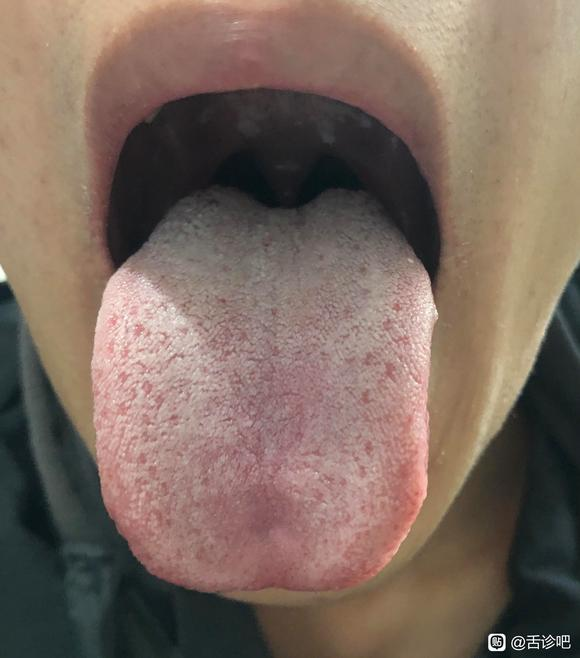baitaishe: (90, 184, 438, 594)
hongdianshe: (390, 300, 402, 312)
shenquao: (213, 184, 347, 221)
